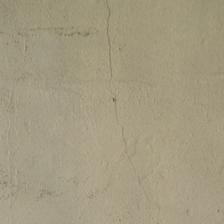Crack: (50, 3, 111, 206)
